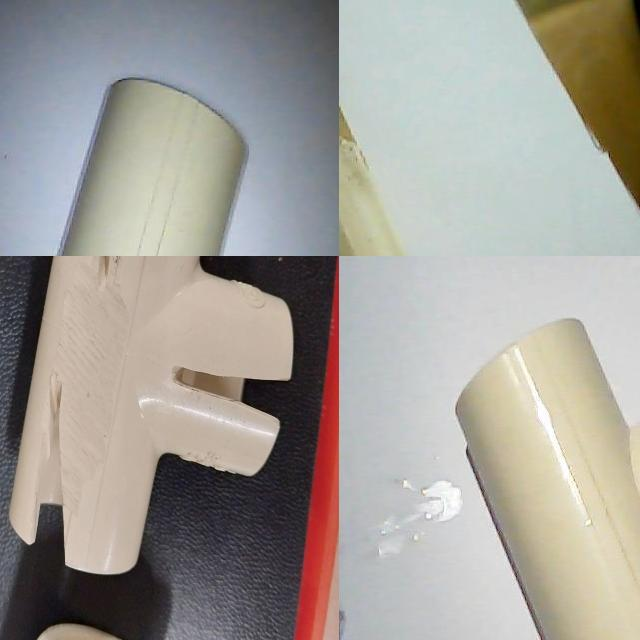Defective: (0, 256, 44, 316)
T Joint: (454, 319, 640, 640), (0, 256, 154, 516), (56, 78, 248, 256), (192, 332, 224, 501)
